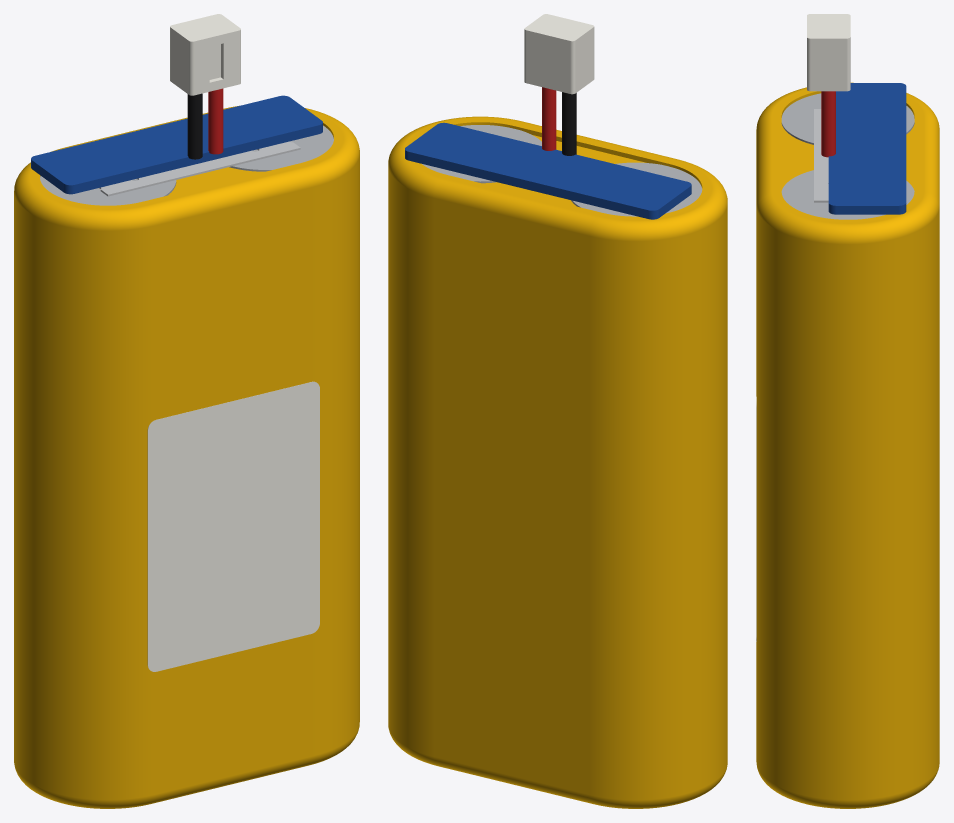
The model's file is battery.glb.
3 views of the same model, side by side, from view 1: azimuth 30°, elevation 25°; view 2: azimuth 150°, elevation 25°; view 3: azimuth 270°, elevation 25° (orthographic). The views are drawn at different scales.
Visible parts, largest first — view 1: battery; view 2: battery; view 3: battery.
Part boxes in pixels (x1,y1,x2,y2): battery: (14,14,359,808); battery: (388,14,727,808); battery: (756,14,939,808).
Size of the model in its own units: 37.3 by 81.4 by 18.92.
